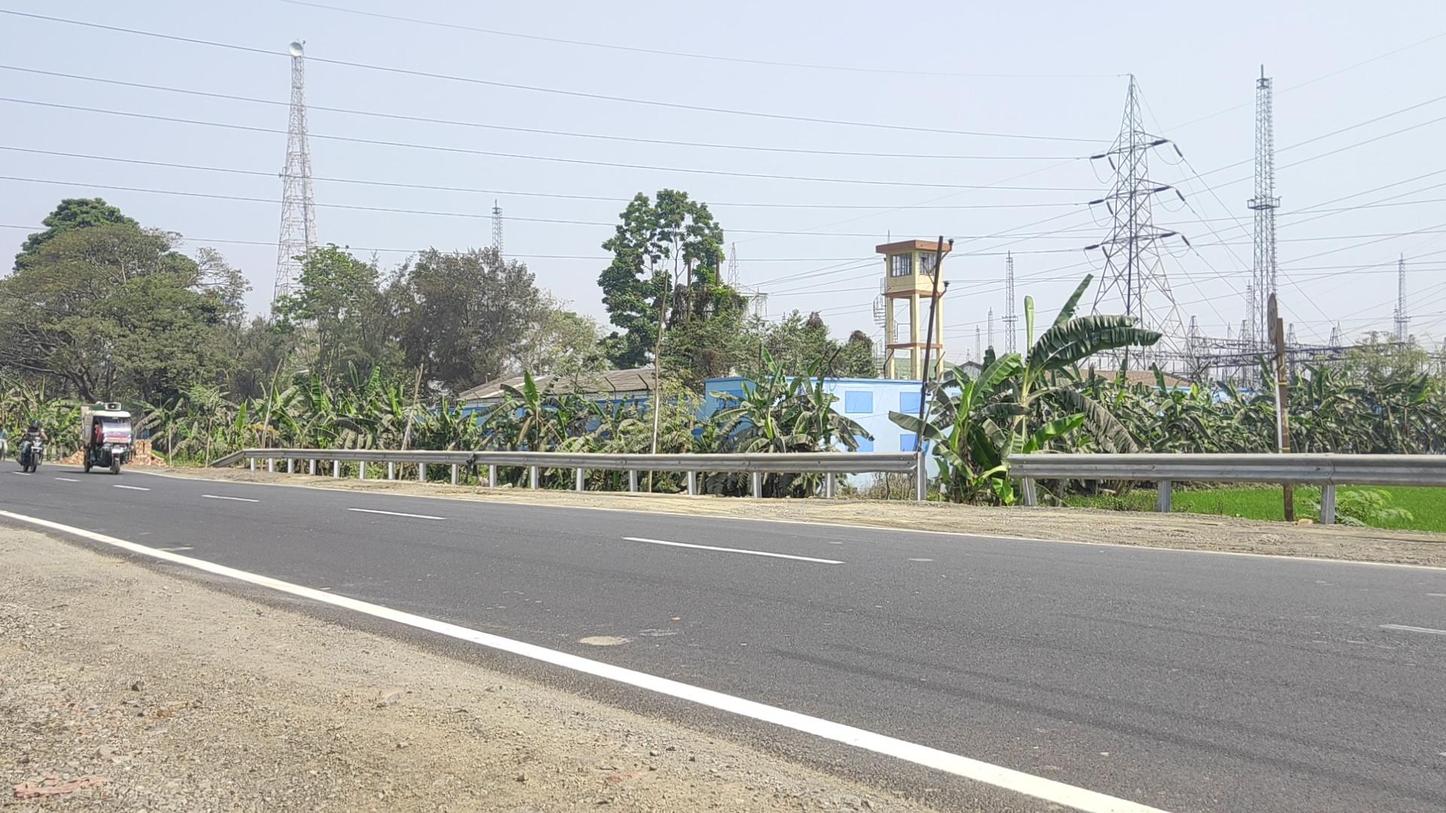Auto: (84, 401, 132, 475)
bike: (16, 419, 48, 473)
